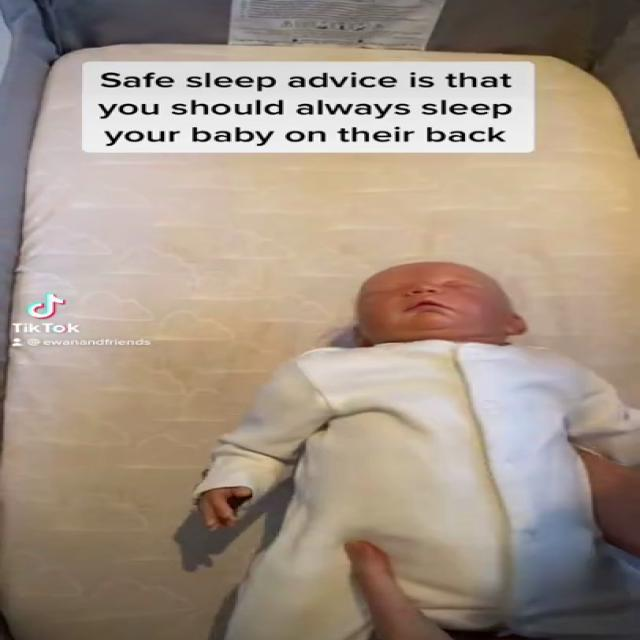baby: (190, 254, 640, 639)
